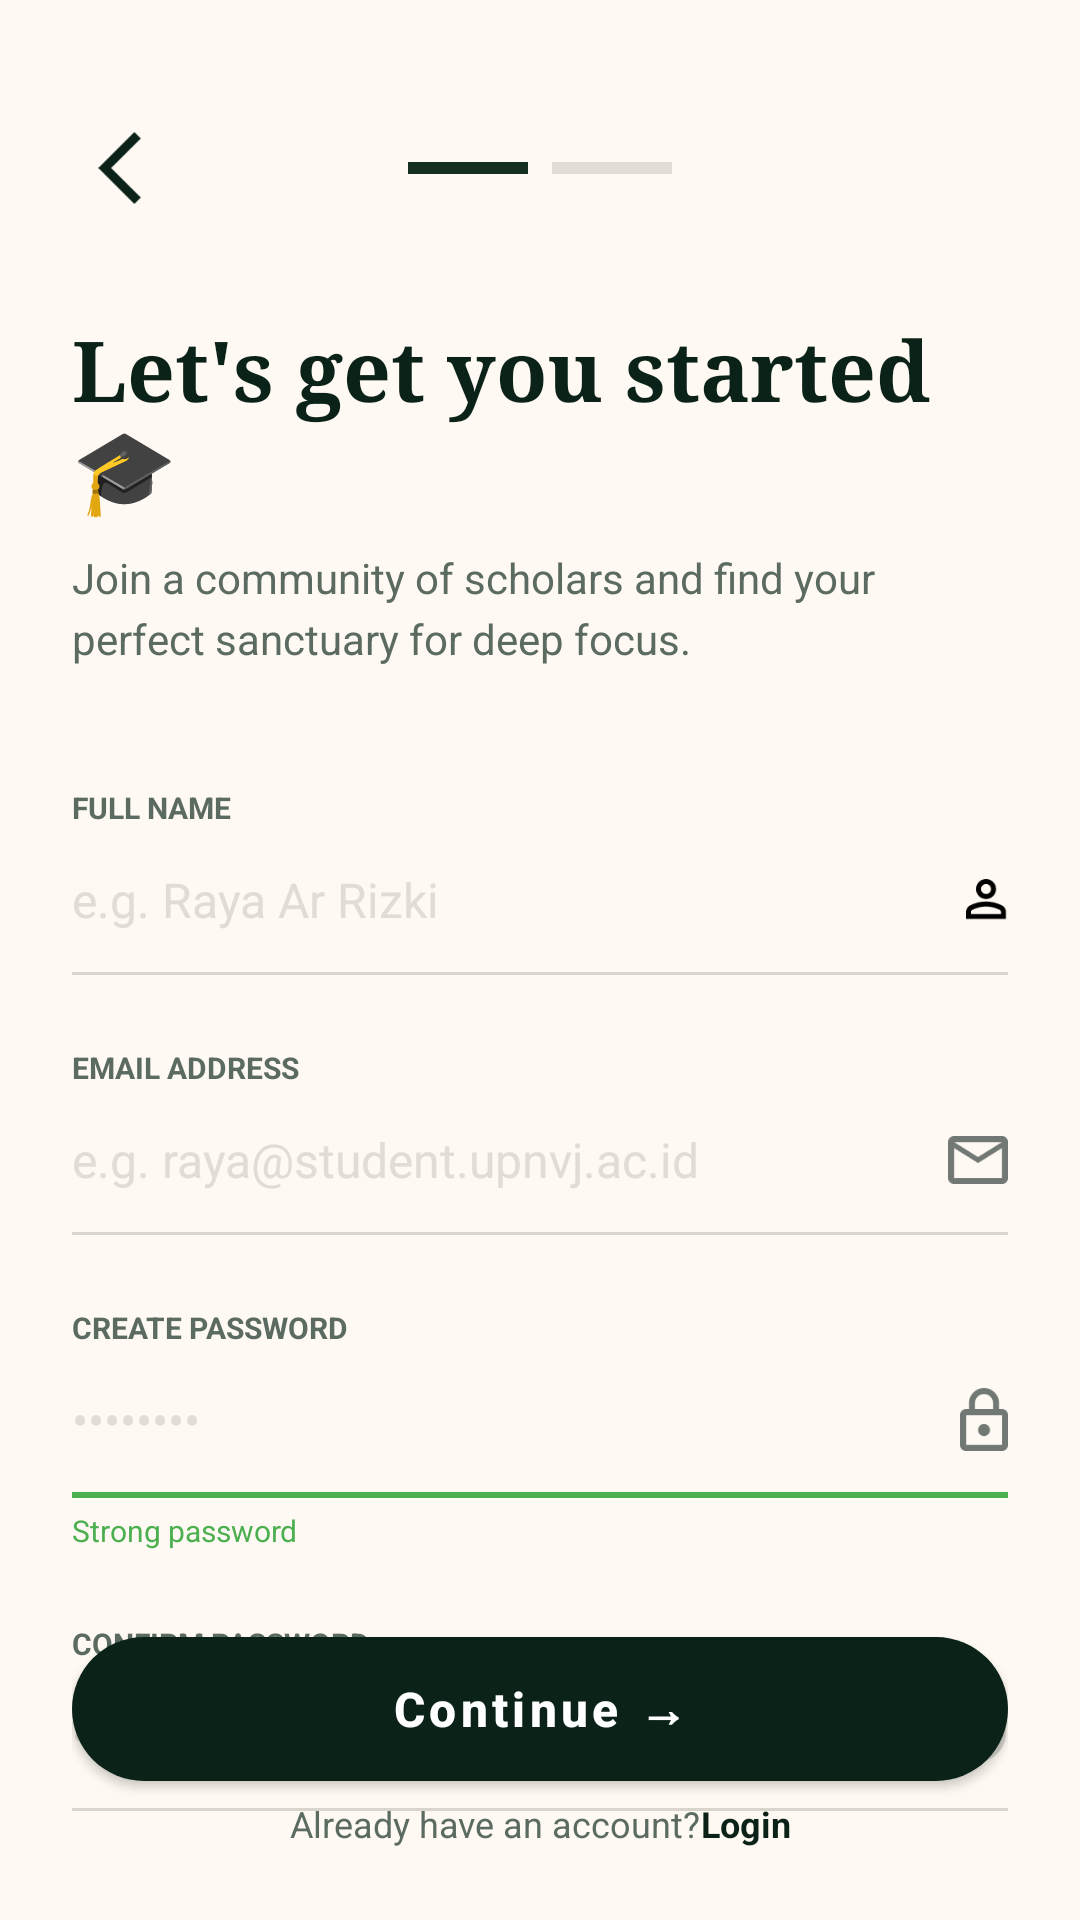

Icon click points for this 1080*1920 phone screenshot, format point (x, y):
back: point (119, 168)
